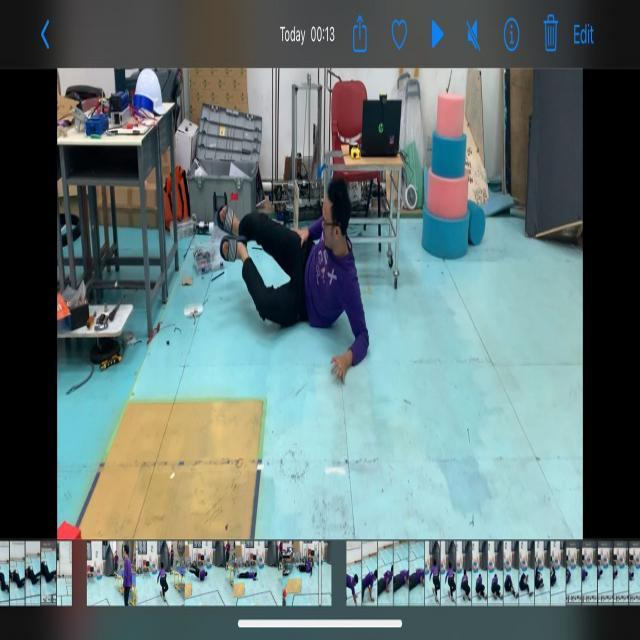fall: (216, 158, 382, 384)
